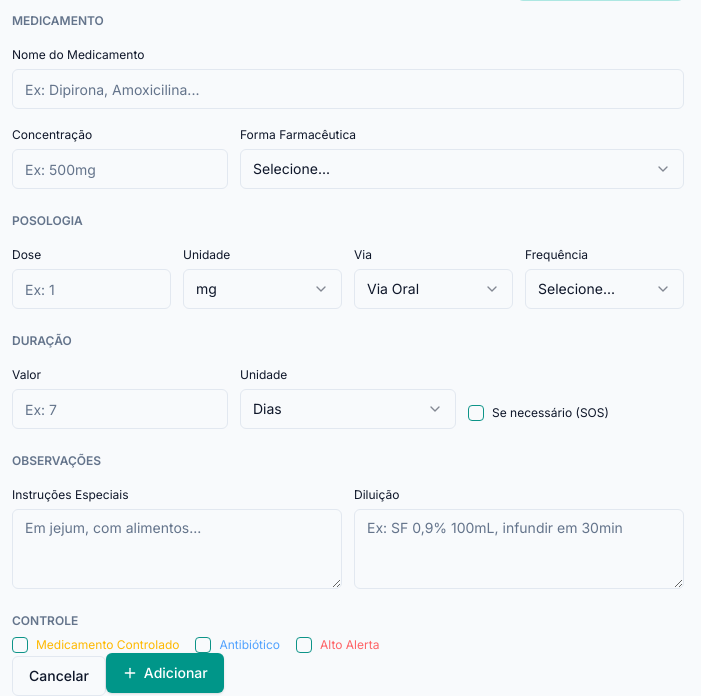
Scenario: PrescriptionForm › shows validation errors when submitting empty form
The image size is (701, 696).
(page scrolled)
Step 1. Click the button "Adicionar" → (165,673), box [106,653,224,693]
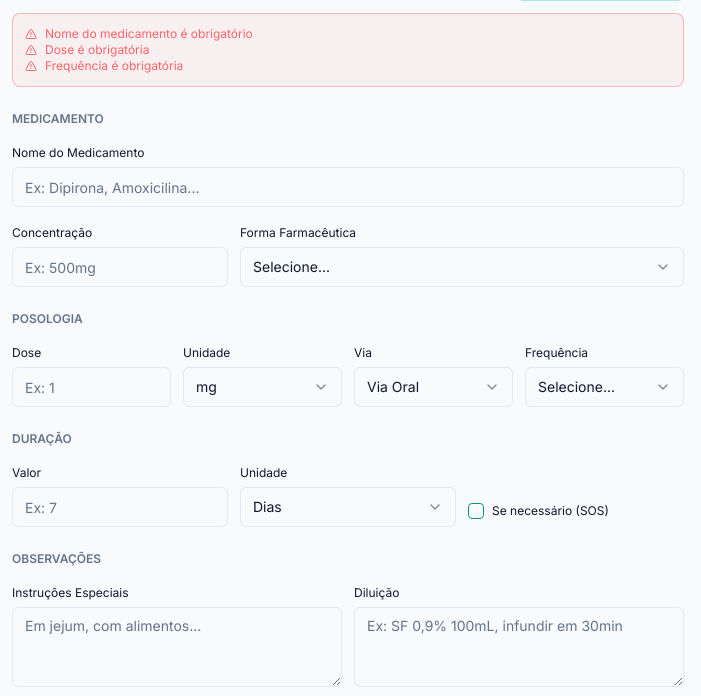
Check: the text "Nome do medicamento é obrigatório" is shown, box [25,26,253,41]
Check: the text "Dose é obrigatória" is shown, box [25,42,149,57]
Check: the text "Frequência é obrigatória" is shown, box [25,58,183,73]
